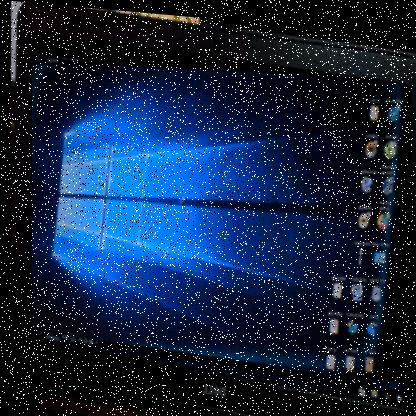fade: (14, 28, 415, 378)
